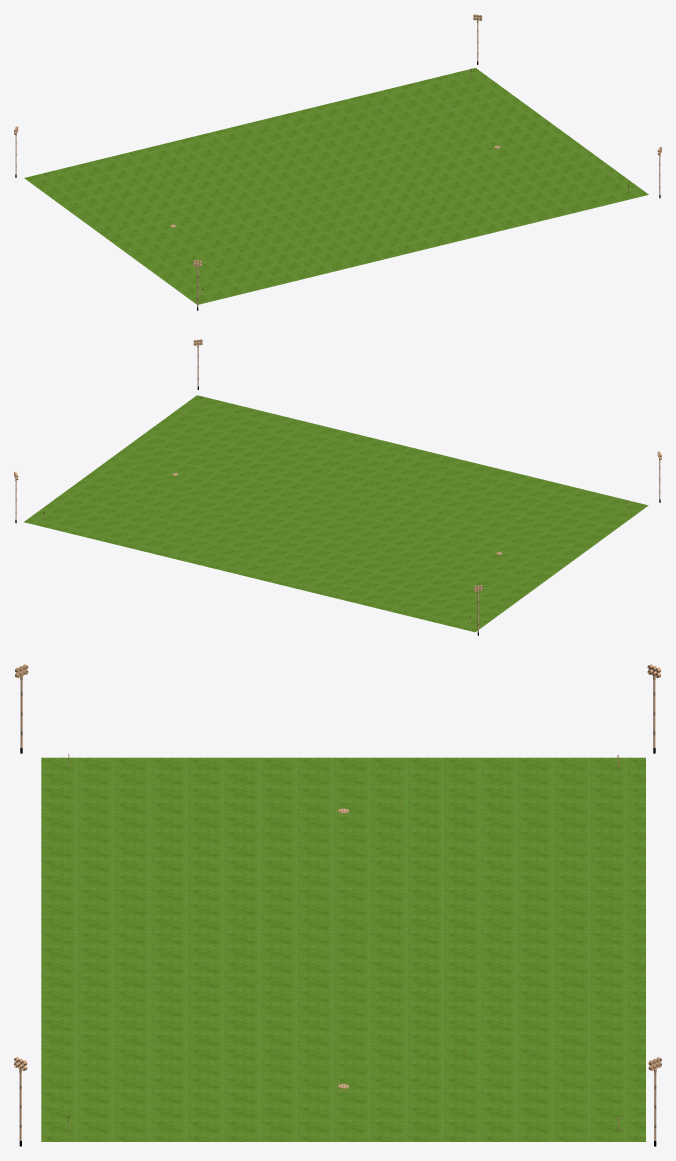
The model's file is floor.FBX.
The picture shows the model from 3 angles, top to bottom: view 1: azimuth 30°, elevation 25°; view 2: azimuth 150°, elevation 25°; view 3: azimuth 270°, elevation 25°; orthographic projection. The views are drawn at different scales.
Parts seen in each view (by area): view 1: Plane01; view 2: Plane01; view 3: Plane01.
Part boxes in pixels (<box>): Plane01: <box>24,68,648,304</box>; Plane01: <box>24,395,648,632</box>; Plane01: <box>41,757,645,1141</box>.
Size of the model in its own units: 1092 by 116 by 751.
4 materials, 2 textured.
